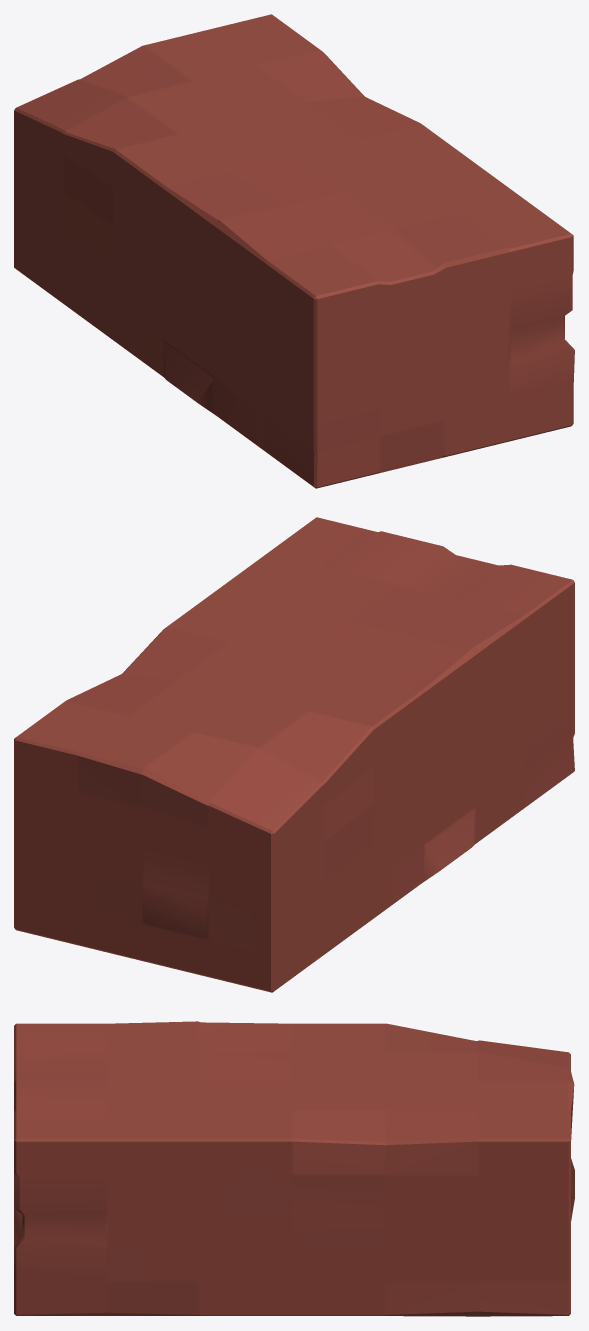
The model's file is Brick.fbx.
The picture shows the model from 3 angles, top to bottom: view 1: azimuth 30°, elevation 25°; view 2: azimuth 150°, elevation 25°; view 3: azimuth 270°, elevation 25°; orthographic projection. The views are drawn at different scales.
Parts seen in each view (by area): view 1: pCube1; view 2: pCube1; view 3: pCube1.
Boxes of the visible parts, left/top/right/bottom form: pCube1: left=14, top=14, right=574, bottom=488; pCube1: left=14, top=517, right=574, bottom=992; pCube1: left=14, top=1021, right=574, bottom=1316.
Size of the model in its own units: 0.0215 by 0.0148 by 0.0417.
